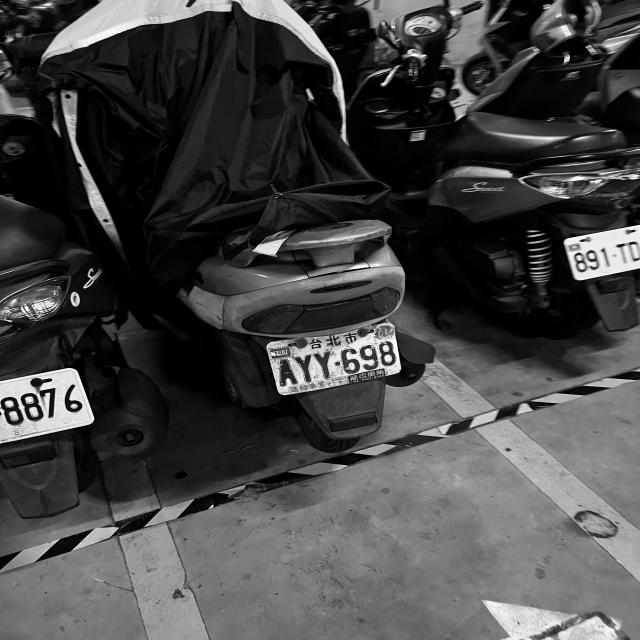-: (333, 360, 342, 368)
1: (598, 246, 614, 270)
6: (60, 384, 85, 415), (338, 347, 363, 376)
7: (37, 386, 63, 420)
8: (16, 391, 47, 424), (0, 395, 28, 429), (376, 339, 399, 368), (573, 250, 590, 275)
9: (357, 343, 382, 372), (584, 248, 603, 273)
A: (278, 356, 302, 389)
D: (627, 241, 640, 265)
T: (614, 241, 632, 266)
Y: (290, 353, 318, 384), (311, 350, 336, 381)
plate: (269, 333, 408, 392)
